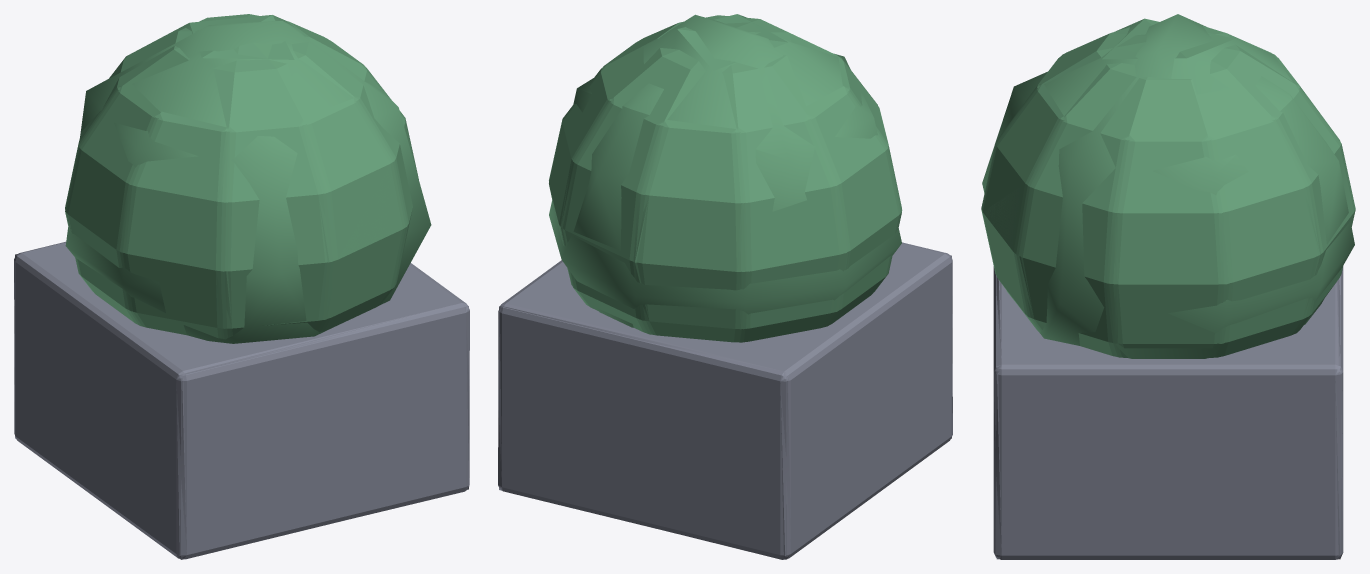
The model's file is SM_Innenstadt_Planter.fbx.
3 views of the same model, side by side, from view 1: azimuth 30°, elevation 25°; view 2: azimuth 150°, elevation 25°; view 3: azimuth 270°, elevation 25° (orthographic). The views are drawn at different scales.
Parts seen in each view (by area): view 1: LOD0_SM_Innenstadt_Planter, LOD3_SM_Innenstadt_Planter, LOD2_SM_Innenstadt_Planter, LOD1_SM_Innenstadt_Planter; view 2: LOD0_SM_Innenstadt_Planter, LOD3_SM_Innenstadt_Planter, LOD2_SM_Innenstadt_Planter, LOD1_SM_Innenstadt_Planter; view 3: LOD0_SM_Innenstadt_Planter, LOD3_SM_Innenstadt_Planter, LOD2_SM_Innenstadt_Planter, LOD1_SM_Innenstadt_Planter.
Part boxes in pixels (x1,y1,x2,y2): LOD0_SM_Innenstadt_Planter: (14,14,469,559); LOD3_SM_Innenstadt_Planter: (65,21,431,343); LOD2_SM_Innenstadt_Planter: (15,15,468,559); LOD1_SM_Innenstadt_Planter: (14,55,469,558); LOD0_SM_Innenstadt_Planter: (498,15,952,559); LOD3_SM_Innenstadt_Planter: (549,14,901,327); LOD2_SM_Innenstadt_Planter: (499,14,951,559); LOD1_SM_Innenstadt_Planter: (498,57,952,559); LOD0_SM_Innenstadt_Planter: (982,26,1354,559); LOD3_SM_Innenstadt_Planter: (982,14,1354,345); LOD2_SM_Innenstadt_Planter: (981,18,1353,559); LOD1_SM_Innenstadt_Planter: (983,54,1355,559).
Size of the model in its own units: 1.33 by 1.88 by 1.39.
